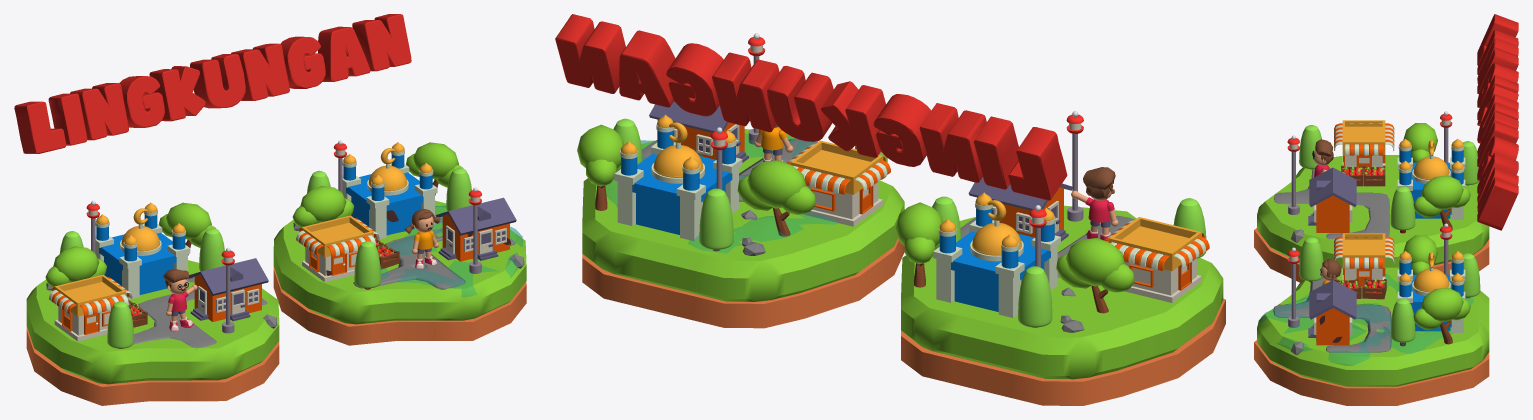
The picture shows the model from 3 angles, left to right: view 1: azimuth 30°, elevation 25°; view 2: azimuth 150°, elevation 25°; view 3: azimuth 270°, elevation 25°; orthographic projection. The views are drawn at different scales.
Parts seen in each view (by area): view 1: Text, Plane.023, Plane.063, Plane.001, Plane.027, Plane.100, Cube.019, Cube.044, Cube.050, Cube.017, Cube.042, Cube.025 (+18 smaller); view 2: Text, Plane.023, Plane.063, Plane.001, Plane.027, Cube.019, Cube.044, Cube.042, Cube.017, Cube.043, Cube.018, Plane.100 (+25 smaller); view 3: Plane.063, Text, Plane.023, Plane.027, Plane.100, Cube.050, Cube.025, Cube.044, Cube.019, Cube.030, Plane.001, Cube.005 (+31 smaller).
Boxes of the visible parts, x1=… form: Text: x1=14, y1=14, x2=411, y2=153; Plane.023: x1=26, y1=260, x2=279, y2=384; Plane.063: x1=273, y1=200, x2=526, y2=324; Plane.001: x1=26, y1=326, x2=279, y2=405; Plane.027: x1=273, y1=266, x2=526, y2=345; Plane.100: x1=381, y1=205, x2=522, y2=297; Cube.019: x1=54, y1=274, x2=126, y2=341; Cube.044: x1=301, y1=215, x2=373, y2=281; Cube.050: x1=353, y1=228, x2=515, y2=289; Cube.017: x1=99, y1=232, x2=176, y2=294; Cube.042: x1=346, y1=172, x2=423, y2=235; Cube.025: x1=133, y1=291, x2=267, y2=349; Text: x1=555, y1=14, x2=1067, y2=200; Plane.023: x1=901, y1=205, x2=1223, y2=379; Plane.063: x1=582, y1=129, x2=904, y2=301; Plane.001: x1=901, y1=298, x2=1225, y2=405; Plane.027: x1=582, y1=238, x2=904, y2=328; Cube.019: x1=1109, y1=217, x2=1201, y2=302; Cube.044: x1=790, y1=140, x2=883, y2=226; Cube.042: x1=632, y1=153, x2=732, y2=234; Cube.017: x1=951, y1=231, x2=1050, y2=311; Cube.043: x1=614, y1=142, x2=742, y2=241; Cube.018: x1=933, y1=220, x2=1060, y2=317; Plane.100: x1=596, y1=133, x2=837, y2=253; Plane.063: x1=1257, y1=267, x2=1489, y2=386; Text: x1=1477, y1=14, x2=1518, y2=230; Plane.023: x1=1257, y1=155, x2=1489, y2=268; Plane.027: x1=1254, y1=340, x2=1489, y2=405; Plane.100: x1=1260, y1=274, x2=1473, y2=365; Cube.050: x1=1273, y1=278, x2=1391, y2=352; Cube.025: x1=1274, y1=167, x2=1389, y2=239; Cube.044: x1=1342, y1=233, x2=1385, y2=290; Cube.019: x1=1342, y1=120, x2=1385, y2=177; Cube.030: x1=1309, y1=280, x2=1356, y2=319; Plane.001: x1=1254, y1=228, x2=1489, y2=282; Cube.005: x1=1309, y1=167, x2=1356, y2=206.
Size of the model in its own units: 0.6267 by 0.2826 by 0.3339.
